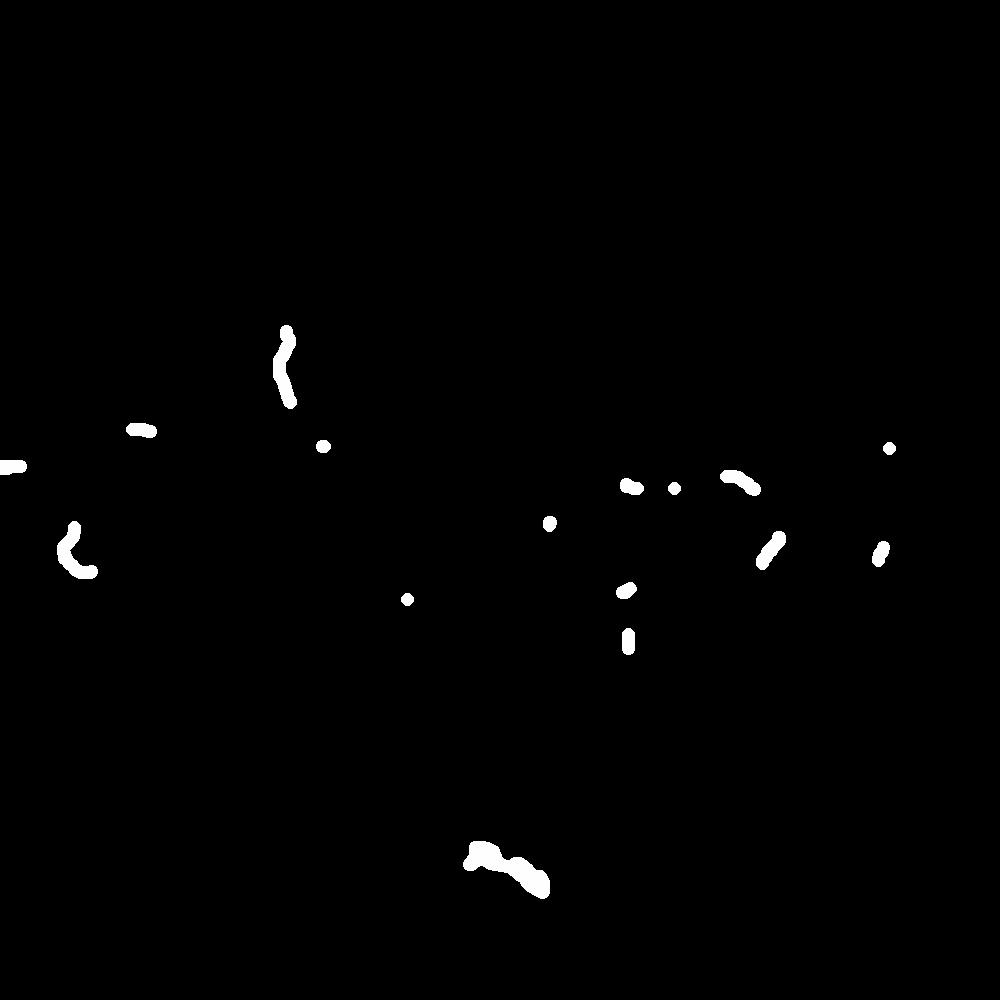illegal: (464, 840, 551, 890), (272, 331, 302, 411), (758, 535, 797, 581), (620, 577, 642, 654), (59, 546, 100, 581), (1, 450, 41, 469), (618, 476, 654, 490)
